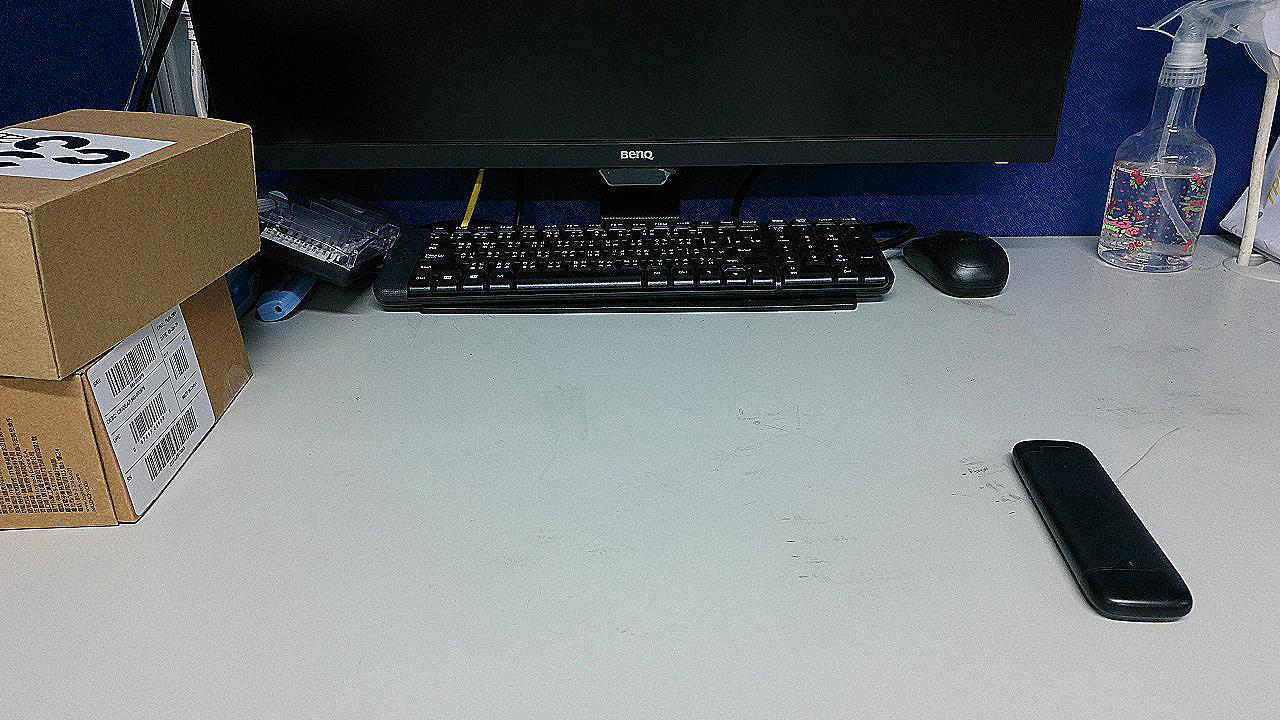blade: (972, 423, 1008, 511)
grasp: (915, 506, 1066, 626)
